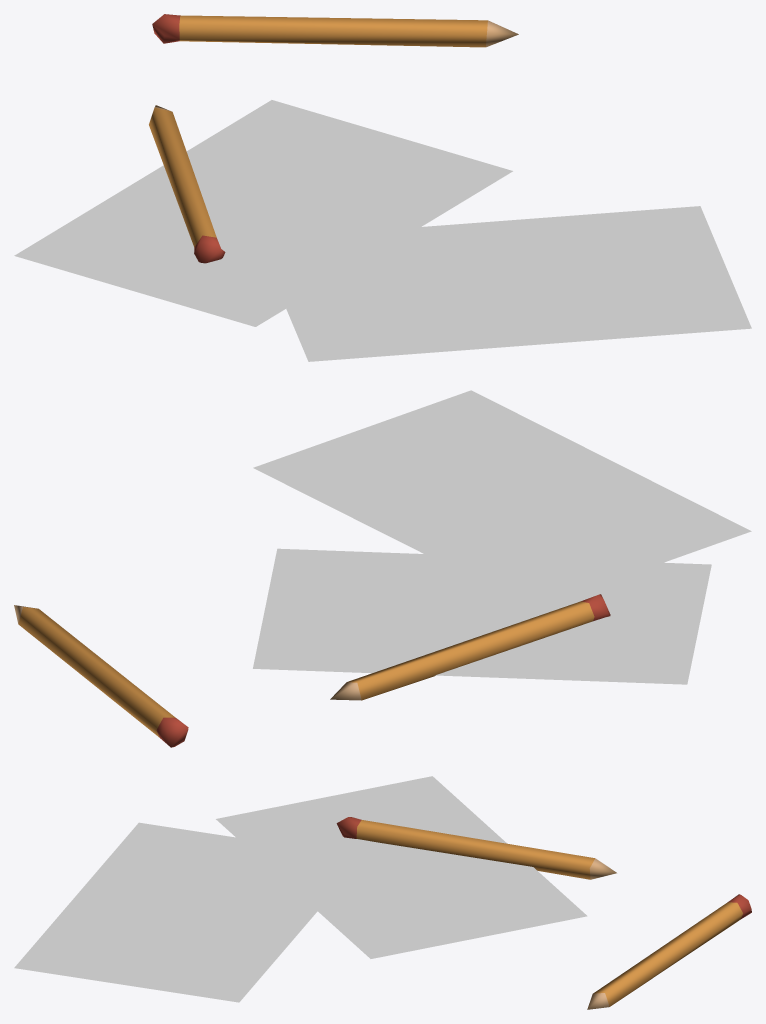
File: PaperPile1.fbx
3 views of the same model, one above another, from view 1: azimuth 30°, elevation 25°; view 2: azimuth 150°, elevation 25°; view 3: azimuth 270°, elevation 25° (orthographic). The views are drawn at different scales.
Visible parts, largest first — view 1: Plane.011; view 2: Plane.011; view 3: Plane.011.
Boxes of the visible parts, x1,y1,x2,y2 form: Plane.011: [14, 14, 751, 361]; Plane.011: [14, 390, 751, 747]; Plane.011: [14, 776, 751, 1009].
Bounding box in the file's own units: 83.62 × 3.84 × 109.
